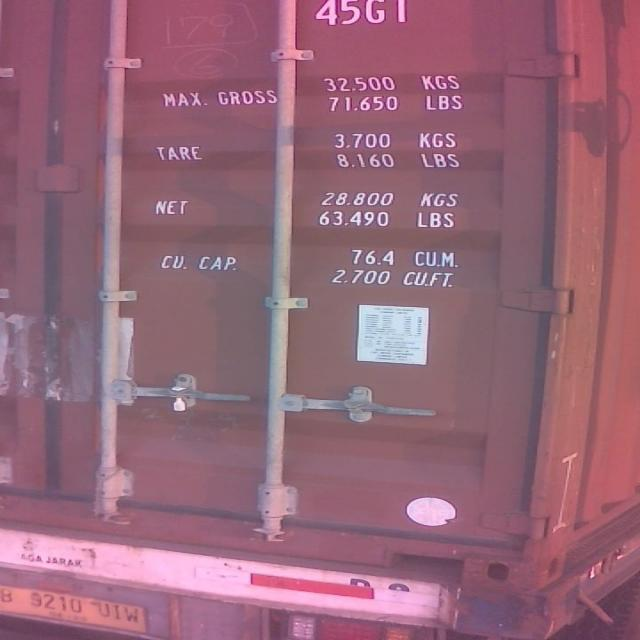seal: (163, 381, 191, 414)
